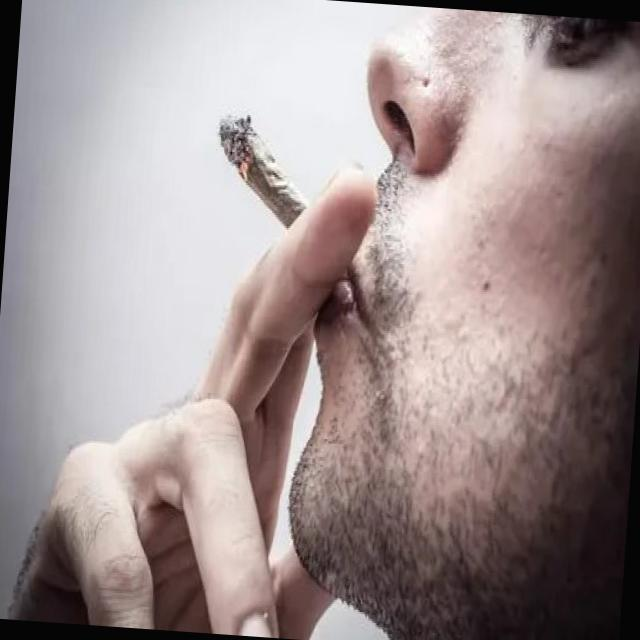smoke: (204, 94, 318, 229)
